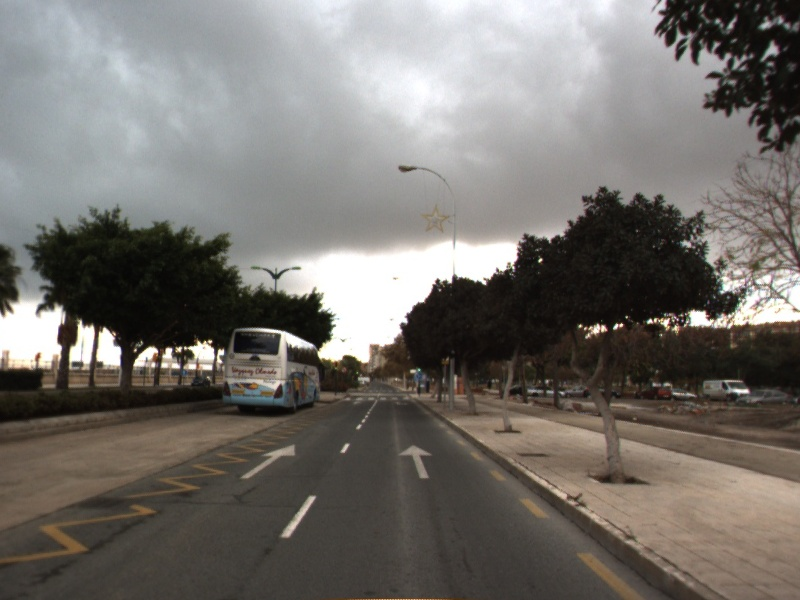STRAIGHT: (238, 442, 297, 481), (396, 442, 436, 480)
